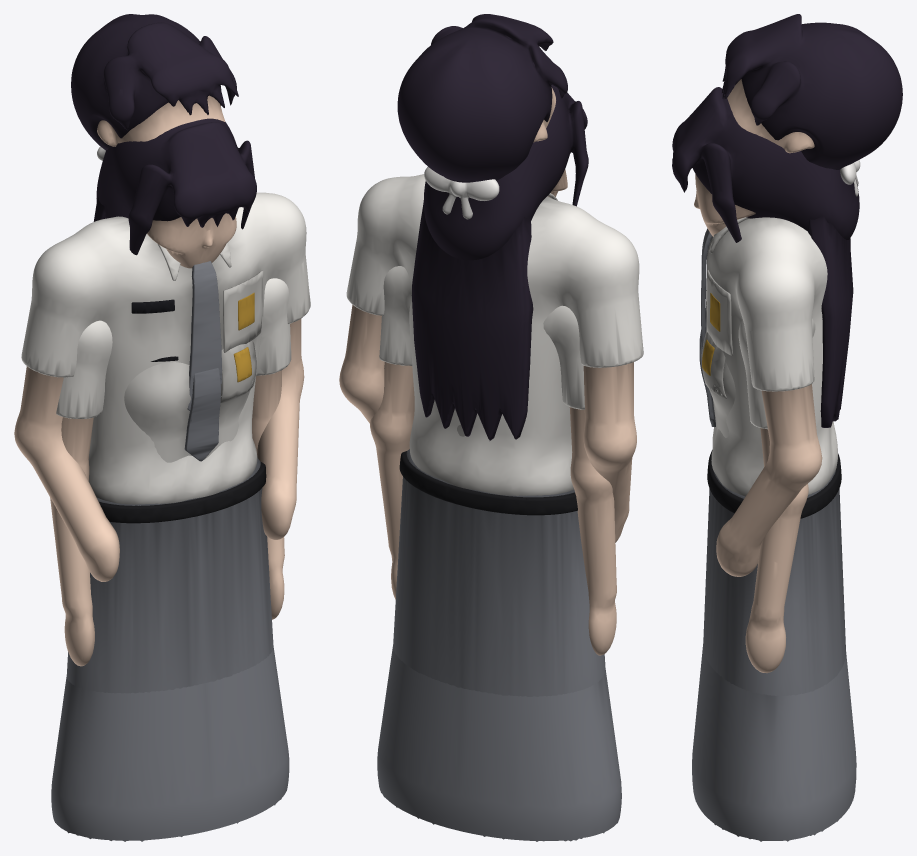
The model's file is figures.glb.
3 renders of one model, left to right at view 1: azimuth 30°, elevation 25°; view 2: azimuth 150°, elevation 25°; view 3: azimuth 270°, elevation 25°, orthographic. The views are drawn at different scales.
Parts seen in each view (by area): view 1: boy_body, girl_body, girl_headmesh, boy_headmesh, boy_tie, girl_tie; view 2: boy_body, girl_body, boy_headmesh, girl_hairlong, girl_headmesh, girl_bow; view 3: boy_body, girl_body, boy_headmesh, girl_headmesh, girl_hairlong, boy_tie.
Boxes of the visible parts, bbox=[...] form: boy_body: bbox=[14, 192, 310, 693]; girl_body: bbox=[50, 278, 291, 841]; girl_headmesh: bbox=[96, 118, 256, 268]; boy_headmesh: bbox=[71, 14, 238, 150]; boy_tie: bbox=[187, 261, 222, 410]; girl_tie: bbox=[184, 368, 220, 461]; boy_body: bbox=[339, 174, 643, 696]; girl_body: bbox=[370, 266, 621, 841]; boy_headmesh: bbox=[397, 14, 567, 182]; girl_hairlong: bbox=[411, 203, 533, 440]; girl_headmesh: bbox=[423, 85, 588, 260]; girl_bow: bbox=[424, 167, 499, 219]; boy_body: bbox=[703, 217, 845, 695]; girl_body: bbox=[692, 319, 856, 841]; boy_headmesh: bbox=[721, 14, 902, 169]; girl_headmesh: bbox=[672, 87, 859, 242]; girl_hairlong: bbox=[807, 215, 853, 427]; boy_tie: bbox=[701, 228, 712, 348].
Size of the model in its own units: 0.5092 by 1.33 by 0.3609.
